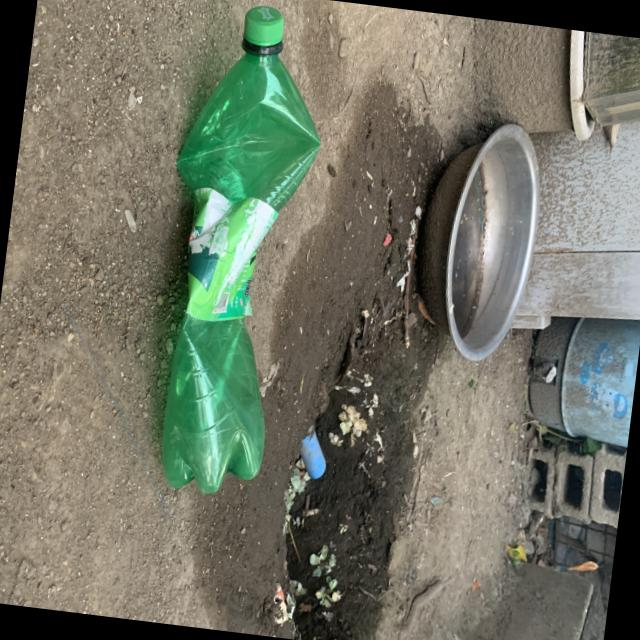Bottle: (162, 5, 320, 492)
